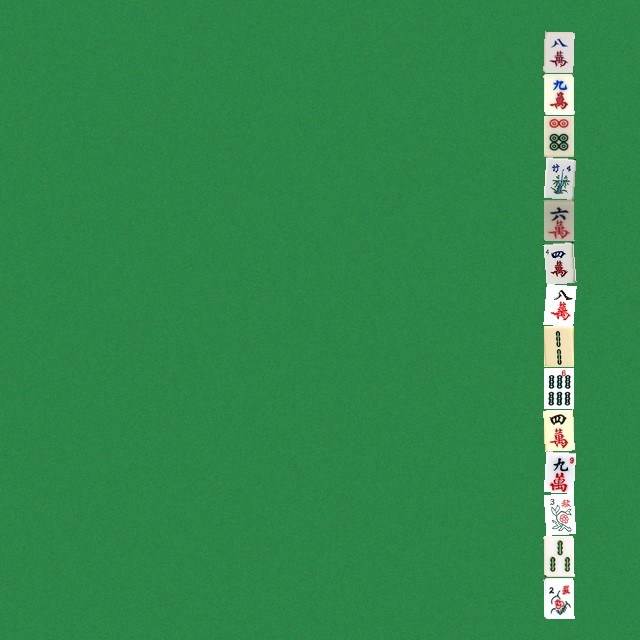tile: (543, 31, 573, 72), (543, 73, 573, 114), (543, 115, 573, 156), (543, 157, 573, 198), (543, 199, 573, 240), (543, 241, 573, 282), (543, 283, 573, 324), (543, 325, 573, 366), (543, 367, 573, 408), (543, 409, 573, 450), (543, 451, 573, 492), (543, 493, 573, 534), (543, 535, 573, 576), (543, 577, 573, 618)
